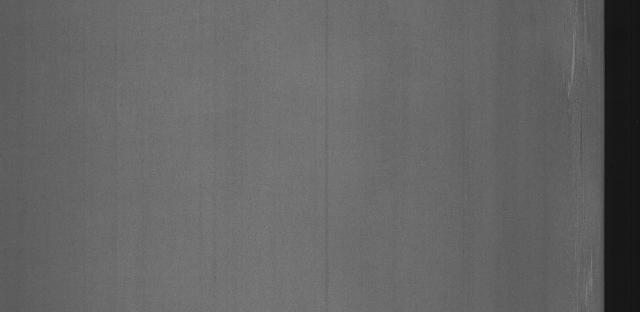silk_spot: (552, 23, 593, 107), (571, 252, 601, 304)
